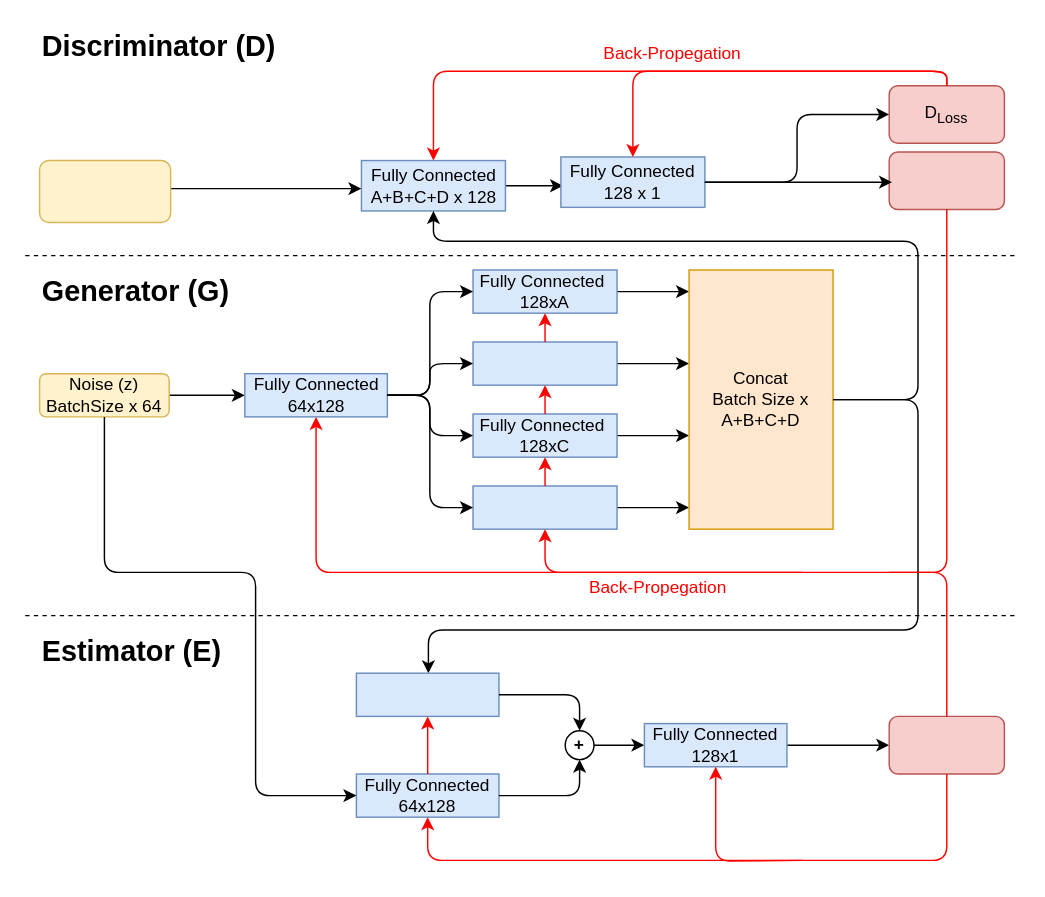
Image size: 1045x897. Some labels were removed from this diagram. Here are the shapes that lost their labels. From the top down, the box of each, then its label:
(38, 159, 171, 222): Real Sample (s) BatchSize x A+B+C+D
(888, 150, 1004, 210): G Loss
(472, 341, 617, 385): Fully Connected 128xB
(472, 485, 617, 529): Fully Connected 128xD
(355, 672, 499, 716): Fully Connected A+B+C+Dx128
(888, 715, 1004, 774): MI Loss
